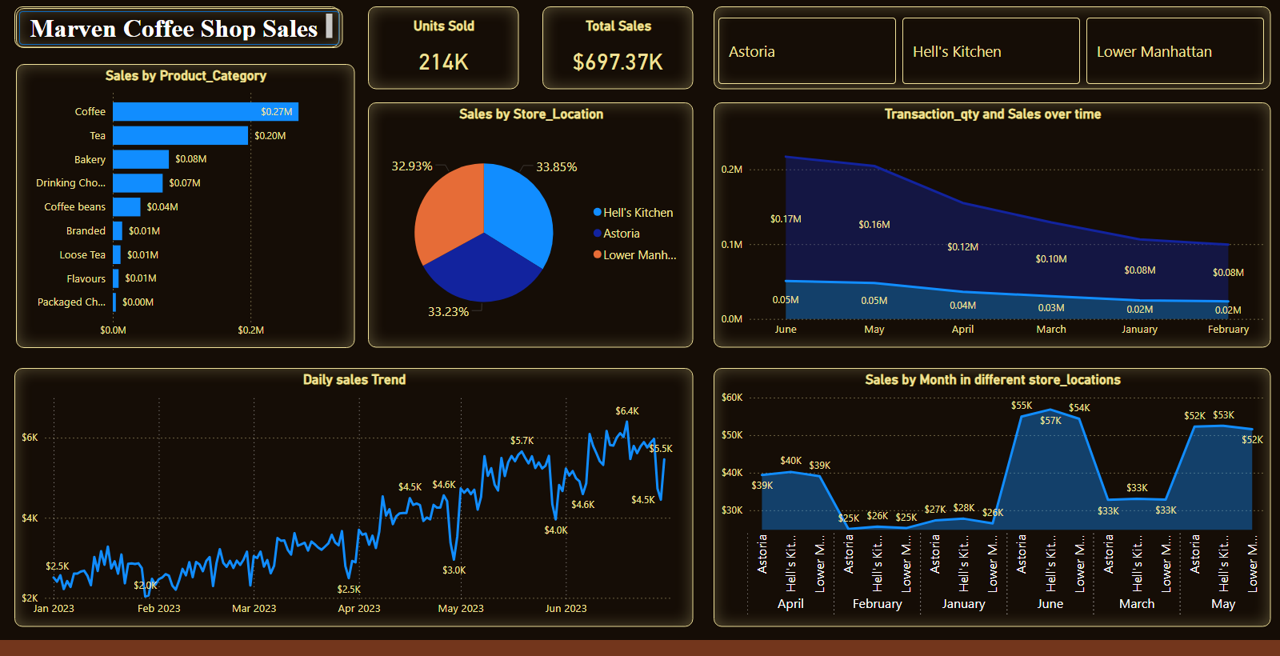

This screenshot's page, from the dashboard's own definition file:
{"tool":"powerbi","page":{"name":"Sales dashboard","canvas":[1600,800],"ordinal":0},"visuals":[{"type":"textbox","box":[18.3,8.3,406.7,51.7],"z":0},{"type":"clusteredBarChart","title":"Sales by Product_Category","fields":{"Category":["Coffee Shop Sales1.product_category"],"Y":["Sum(Coffee Shop Sales1.Sales)"]},"box":[20,80,423.3,355],"z":1000},{"type":"pieChart","title":"Sales by Store_Location","fields":{"Category":["Coffee Shop Sales1.store_location"],"Y":["Sum(Coffee Shop Sales1.Sales)"]},"box":[460,128.3,406.7,306.7],"z":2000},{"type":"card","title":"Total Sales","fields":{"Values":["Sum(Coffee Shop Sales1.Sales)"]},"box":[678.3,8.3,188.3,103.3],"z":3000},{"type":"card","title":"Units Sold","fields":{"Values":["Sum(Coffee Shop Sales1.transaction_qty)"]},"box":[460,8.3,188.3,103.3],"z":4000},{"type":"lineChart","title":"Daily sales Trend","fields":{"Y":["Sum(Coffee Shop Sales1.Sales)"],"Category":["Coffee Shop Sales1.transaction_date.Variation.Date Hierarchy.Year","Coffee Shop Sales1.transaction_date.Variation.Date Hierarchy.Quarter","Coffee Shop Sales1.transaction_date.Variation.Date Hierarchy.Month","Coffee Shop Sales1.transaction_date.Variation.Date Hierarchy.Day"]},"box":[18.3,460,848.3,323.3],"z":5000},{"type":"stackedAreaChart","title":"Transaction_qty and Sales over time","fields":{"Y":["Sum(Coffee Shop Sales1.transaction_qty)","Sum(Coffee Shop Sales1.Sales)"],"Category":["Coffee Shop Sales1.Month"]},"box":[891.7,128.3,696.7,306.7],"z":6000},{"type":"areaChart","title":"Sales by Month in different store_locations","fields":{"Category":["Coffee Shop Sales1.Month","Coffee Shop Sales1.store_location"],"Y":["Sum(Coffee Shop Sales1.Sales)"]},"box":[891.7,460,696.7,323.3],"z":7000},{"type":"advancedSlicerVisual","fields":{"Values":["Coffee Shop Sales1.store_location"]},"box":[891.7,8.3,696.7,103.3],"z":8000},{"type":"shape","box":[20,10,408.3,50],"z":9000}]}

Visuals, with their boxes in screenshot pixels (x1, y1, x2, y2), scaled from the page's 1600x800 canvas onto the 1280x656 screenshot:
textbox: [15,7,340,49]
"Sales by Product_Category" clusteredBarChart: [16,66,355,357]
"Sales by Store_Location" pieChart: [368,105,693,357]
"Total Sales" card: [543,7,693,92]
"Units Sold" card: [368,7,519,92]
"Daily sales Trend" lineChart: [15,377,693,642]
"Transaction_qty and Sales over time" stackedAreaChart: [713,105,1271,357]
"Sales by Month in different store_locations" areaChart: [713,377,1271,642]
advancedSlicerVisual - Coffee Shop Sales1.store_location: [713,7,1271,92]
shape: [16,8,343,49]
